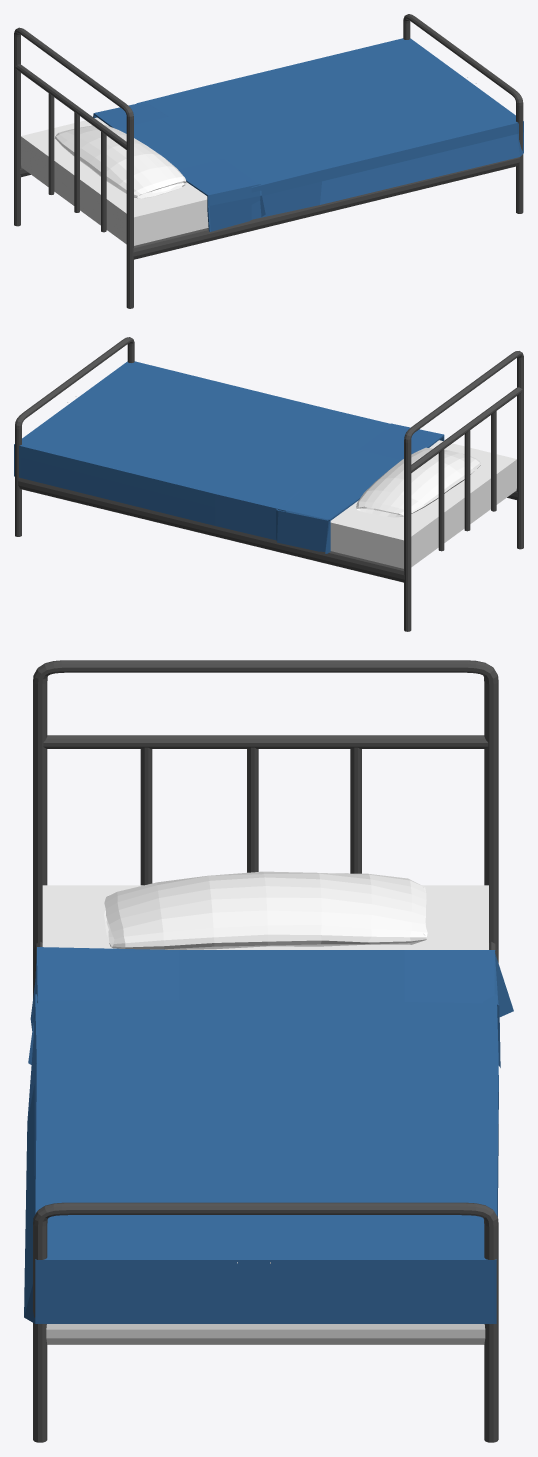
File: letto_normale.fbx
3 views of the same model, one above another, from view 1: azimuth 30°, elevation 25°; view 2: azimuth 150°, elevation 25°; view 3: azimuth 270°, elevation 25° (orthographic). The views are drawn at different scales.
Parts seen in each view (by area): view 1: Sheets_Hospital_bed_Sheet2, Hospital_bed_Mattress_Mattress, Sheet1_Sheets_Hospital_bed, Hospital_bed_Pillow1_Pillow, Hospital_bed_Metal_Metal_bed5, Hospital_bed_Metal_bed_Metal, Hospital_bed_Metal_Metal_bed6, Hospital_bed_Metal_Metal_bed1, Hospital_bed_Metal_Metal_bed4, Hospital_bed_Metal_Metal_bed3, Hospital_bed_Metal_Metal_bed2; view 2: Sheets_Hospital_bed_Sheet2, Hospital_bed_Mattress_Mattress, Sheet1_Sheets_Hospital_bed, Hospital_bed_Metal_Metal_bed9, Hospital_bed_Pillow1_Pillow, Hospital_bed_Metal_bed_Metal, Hospital_bed_Metal_Metal_bed6, Hospital_bed_Metal_Metal_bed1, Hospital_bed_Metal_Metal_bed4, Hospital_bed_Metal_Metal_bed3, Hospital_bed_Metal_Metal_bed2; view 3: Sheets_Hospital_bed_Sheet2, Sheet1_Sheets_Hospital_bed, Hospital_bed_Pillow1_Pillow, Hospital_bed_Metal_bed_Metal, Hospital_bed_Metal_Metal_bed6, Hospital_bed_Mattress_Mattress, Hospital_bed_Metal_Metal_bed7, Hospital_bed_Metal_Metal_bed1, Hospital_bed_Metal_Metal_bed2, Hospital_bed_Metal_Metal_bed4, Hospital_bed_Metal_Metal_bed3.
Boxes of the visible parts, <box> form: Sheets_Hospital_bed_Sheet2: <box>136,38,523,219</box>; Hospital_bed_Mattress_Mattress: <box>21,117,208,245</box>; Sheet1_Sheets_Hospital_bed: <box>93,103,265,231</box>; Hospital_bed_Pillow1_Pillow: <box>55,125,186,198</box>; Hospital_bed_Metal_Metal_bed5: <box>133,157,520,259</box>; Hospital_bed_Metal_bed_Metal: <box>14,27,133,308</box>; Hospital_bed_Metal_Metal_bed6: <box>403,14,523,213</box>; Hospital_bed_Metal_Metal_bed1: <box>15,64,126,149</box>; Hospital_bed_Metal_Metal_bed4: <box>48,93,54,194</box>; Hospital_bed_Metal_Metal_bed3: <box>74,112,79,212</box>; Hospital_bed_Metal_Metal_bed2: <box>101,131,106,232</box>; Sheets_Hospital_bed_Sheet2: <box>14,361,390,540</box>; Hospital_bed_Mattress_Mattress: <box>330,440,516,568</box>; Sheet1_Sheets_Hospital_bed: <box>276,423,444,553</box>; Hospital_bed_Metal_Metal_bed9: <box>18,478,404,582</box>; Hospital_bed_Pillow1_Pillow: <box>356,447,480,517</box>; Hospital_bed_Metal_bed_Metal: <box>404,351,523,631</box>; Hospital_bed_Metal_Metal_bed6: <box>15,337,134,536</box>; Hospital_bed_Metal_Metal_bed1: <box>411,387,522,472</box>; Hospital_bed_Metal_Metal_bed4: <box>438,449,444,551</box>; Hospital_bed_Metal_Metal_bed3: <box>464,430,470,531</box>; Hospital_bed_Metal_Metal_bed2: <box>491,411,496,511</box>; Sheets_Hospital_bed_Sheet2: <box>24,994,498,1323</box>; Sheet1_Sheets_Hospital_bed: <box>28,947,513,1067</box>; Hospital_bed_Pillow1_Pillow: <box>104,871,427,949</box>; Hospital_bed_Metal_bed_Metal: <box>33,660,498,998</box>; Hospital_bed_Metal_Metal_bed6: <box>33,1202,498,1442</box>; Hospital_bed_Mattress_Mattress: <box>42,885,488,949</box>; Hospital_bed_Metal_Metal_bed7: <box>46,1324,485,1344</box>; Hospital_bed_Metal_Metal_bed1: <box>43,735,488,748</box>; Hospital_bed_Metal_Metal_bed2: <box>140,747,152,885</box>; Hospital_bed_Metal_Metal_bed4: <box>350,747,361,873</box>; Hospital_bed_Metal_Metal_bed3: <box>247,747,258,872</box>.
Size of the model in its own units: 20.54 by 9.82 by 10.93.
